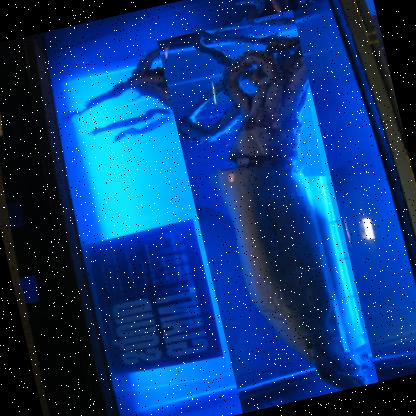colossal_squid: (155, 9, 378, 413)
